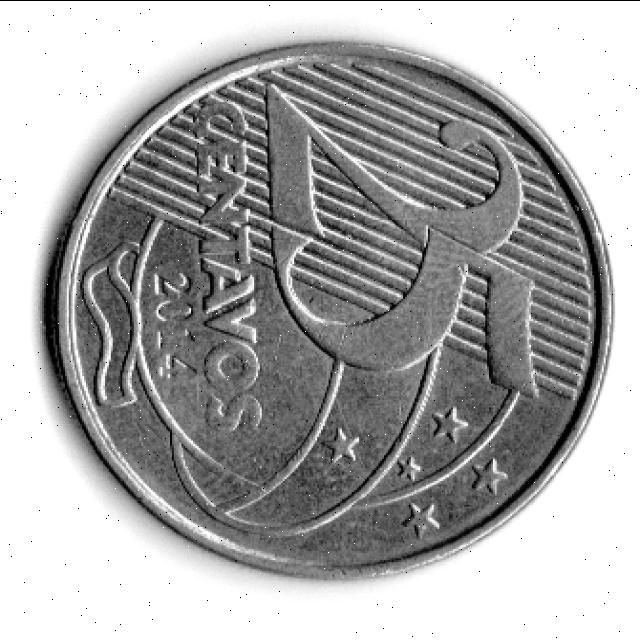25 cent: (44, 40, 618, 578)
